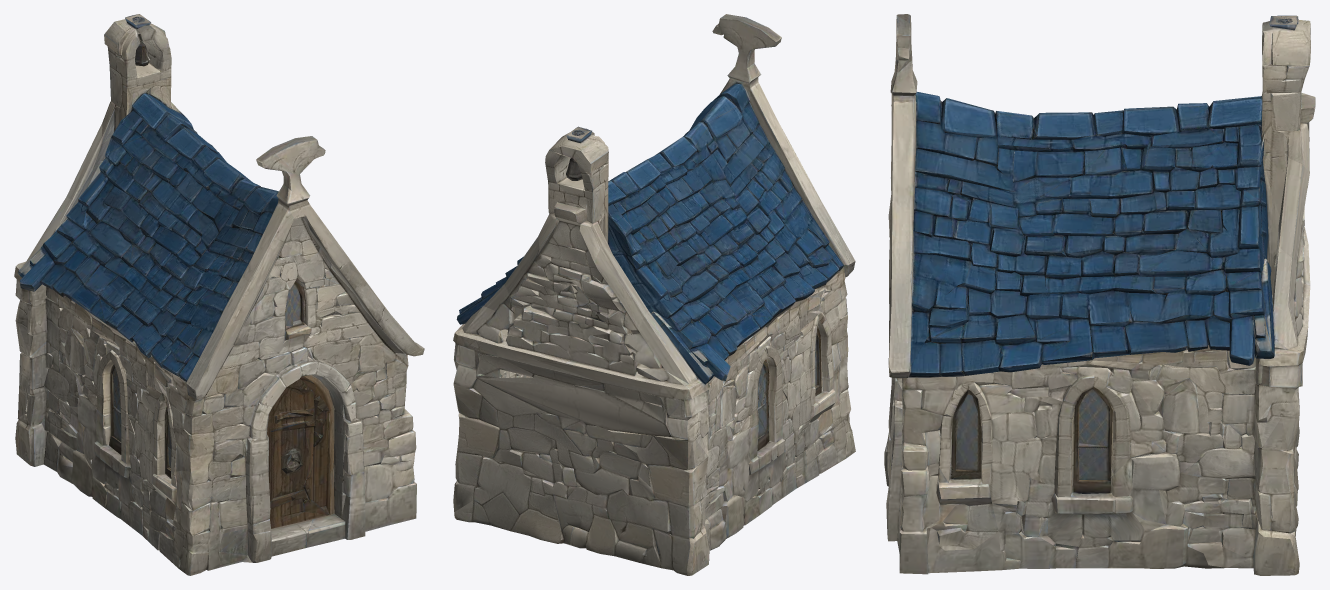
Rendered from chapel.glb.
3 renders of one model, left to right at view 1: azimuth 30°, elevation 25°; view 2: azimuth 150°, elevation 25°; view 3: azimuth 270°, elevation 25°, orthographic. The views are drawn at different scales.
Visible parts, largest first — view 1: chapel; view 2: chapel; view 3: chapel.
Boxes of the visible parts, x1,y1,x2,y2 form: chapel: [14, 14, 424, 575]; chapel: [453, 14, 855, 575]; chapel: [884, 14, 1315, 575].
Size of the model in its own units: 7.14 by 10.45 by 8.4.
1 material, 1 textured.
